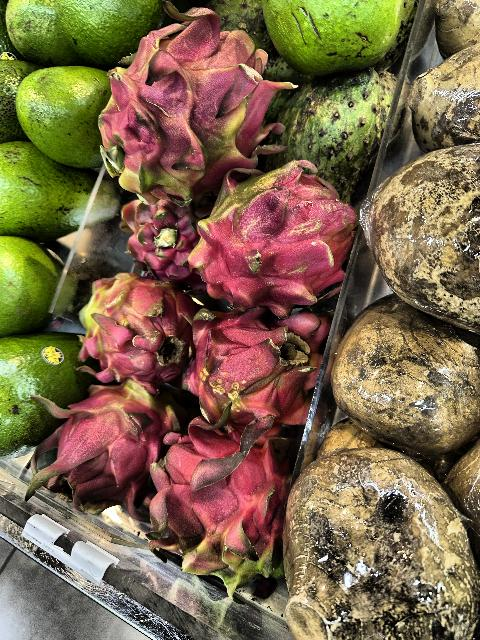buah-naga-belum-matang: (84, 10, 282, 200), (193, 166, 359, 312), (148, 433, 292, 591), (40, 382, 176, 516), (184, 316, 326, 426), (68, 268, 197, 386), (110, 192, 207, 286)
